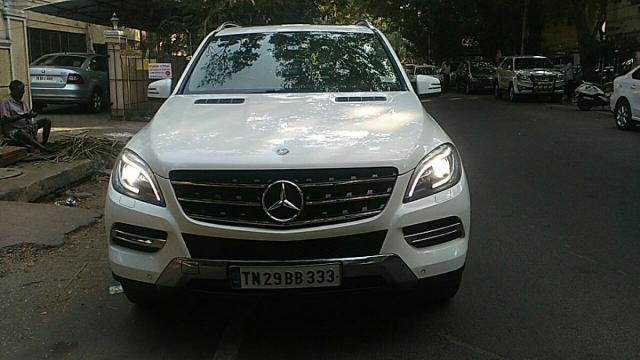T: (240, 269, 252, 286)
